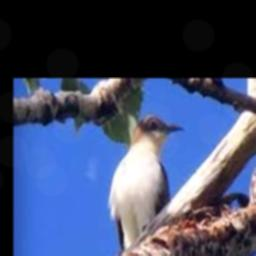Cuckoo: (109, 116, 186, 252)
